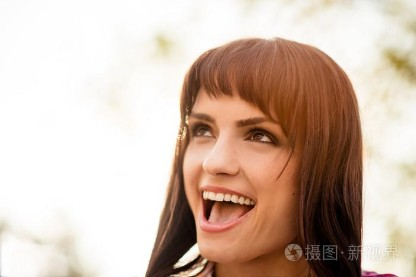张嘴: (195, 182, 256, 231)
